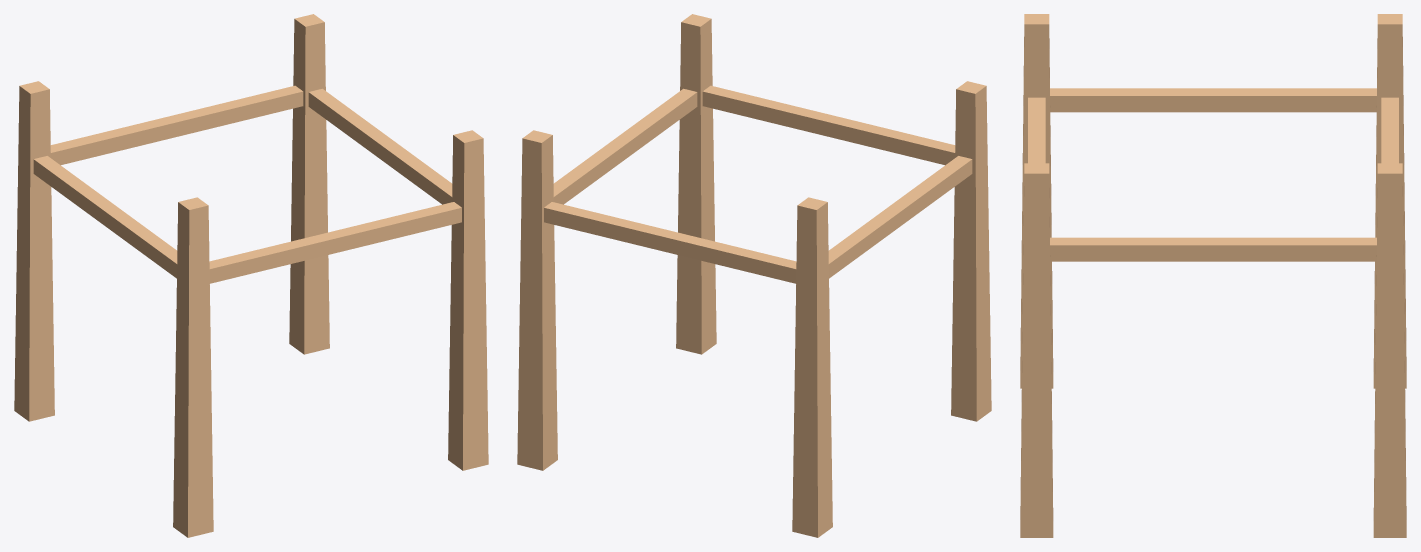
3 renders of one model, left to right at view 1: azimuth 30°, elevation 25°; view 2: azimuth 150°, elevation 25°; view 3: azimuth 270°, elevation 25°, orthographic. The views are drawn at different scales.
Parts seen in each view (by area): view 1: structure; view 2: structure; view 3: structure.
Boxes of the visible parts, x1,y1,x2,y2 form: structure: (14,14,488,537); structure: (517,14,991,537); structure: (1020,14,1406,537).
Size of the model in its own units: 0.5 by 0.5175 by 0.5.
